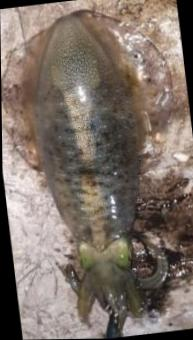Cephalopod: (27, 14, 166, 339)
